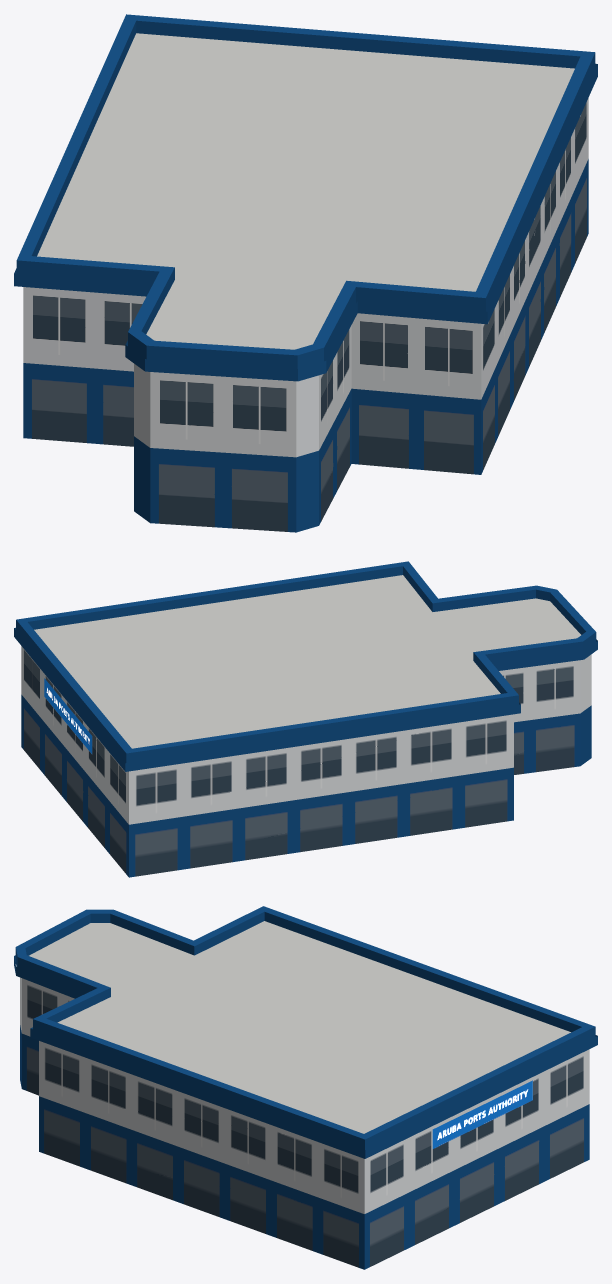
File: portsauthority.glb
3 views of the same model, one above another, from view 1: azimuth 30°, elevation 25°; view 2: azimuth 150°, elevation 25°; view 3: azimuth 270°, elevation 25° (orthographic). The views are drawn at different scales.
Visible parts, largest first — view 1: portsauthority_lod0; view 2: portsauthority_lod0; view 3: portsauthority_lod0.
Boxes of the visible parts, x1,y1,x2,y2 form: portsauthority_lod0: (14, 14, 597, 532); portsauthority_lod0: (14, 561, 597, 877); portsauthority_lod0: (14, 906, 597, 1269).
Size of what is drawn, in the model's own units: 32.69 by 8.6 by 34.25.
5 materials, 3 textured.
